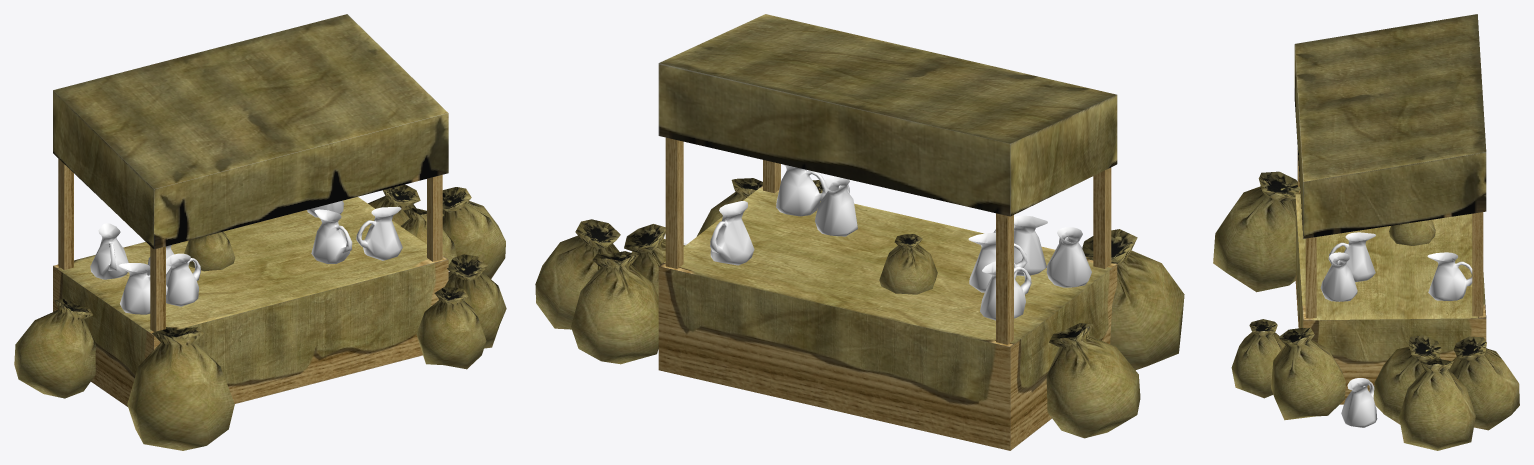
The model's file is store01_2.fbx.
3 views of the same model, side by side, from view 1: azimuth 30°, elevation 25°; view 2: azimuth 150°, elevation 25°; view 3: azimuth 270°, elevation 25° (orthographic). The views are drawn at different scales.
Visible parts, largest first — view 1: stand_28, bag_233, bag_240, bag_236, bag_235, bag_234, pot_111, pot_105, pot_108, bag_237, pot_110, pot_109 (+2 smaller); view 2: stand_28, bag_240, bag_238, bag_233, bag_235, bag_237, pot_112, pot_105, pot_109, pot_111, bag_239, pot_108 (+3 smaller); view 3: stand_28, bag_233, bag_235, bag_234, bag_238, bag_239, bag_236, pot_112, pot_107, pot_111, pot_105, bag_237.
Part boxes in pixels (x1,y1,x2,y2): stand_28: (53,14,448,406); bag_233: (127,327,234,450); bag_240: (14,299,95,398); bag_236: (416,287,486,369); bag_235: (442,187,505,278); bag_234: (438,254,506,348); pot_111: (356,206,402,260); pot_105: (311,209,352,263); pot_108: (166,253,200,306); bag_237: (184,231,235,271); pot_110: (90,223,128,279); pot_109: (118,263,167,314); stand_28: (658,14,1117,450); bag_240: (1046,323,1140,438); bag_238: (571,251,658,364); bag_233: (1082,229,1184,370); bag_235: (535,219,620,329); bag_237: (879,234,937,294); pot_112: (710,201,754,265); pot_105: (815,176,857,236); pot_109: (1046,227,1091,287); pot_111: (776,164,827,216); bag_239: (624,224,685,295); pot_108: (993,215,1047,275); stand_28: (1294,14,1486,404); bag_233: (1213,171,1300,292); bag_235: (1399,358,1475,450); bag_234: (1271,328,1345,420); bag_238: (1449,336,1519,430); bag_239: (1373,335,1441,424); bag_236: (1231,319,1284,398); pot_112: (1427,252,1472,300); pot_107: (1341,378,1377,427); pot_111: (1320,252,1357,301); pot_105: (1328,232,1375,282); bag_237: (1389,219,1435,245).
Bounding box in the file's own units: 110 × 58.02 × 61.69.
